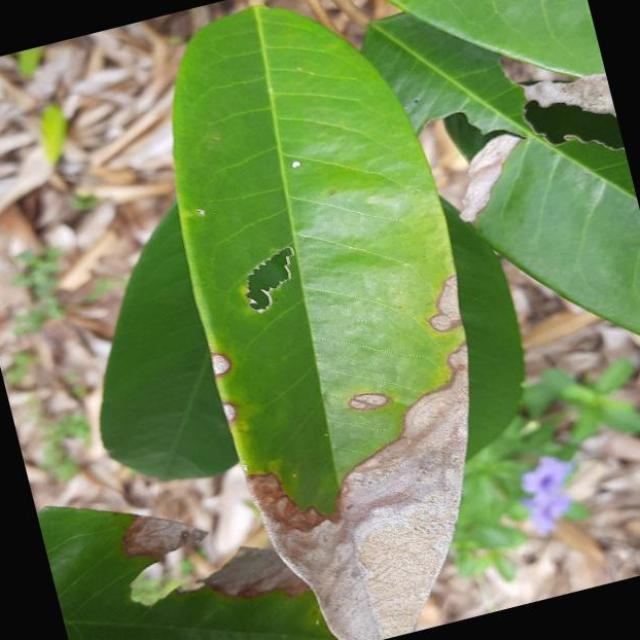Leaf Blight: (109, 0, 550, 640)
